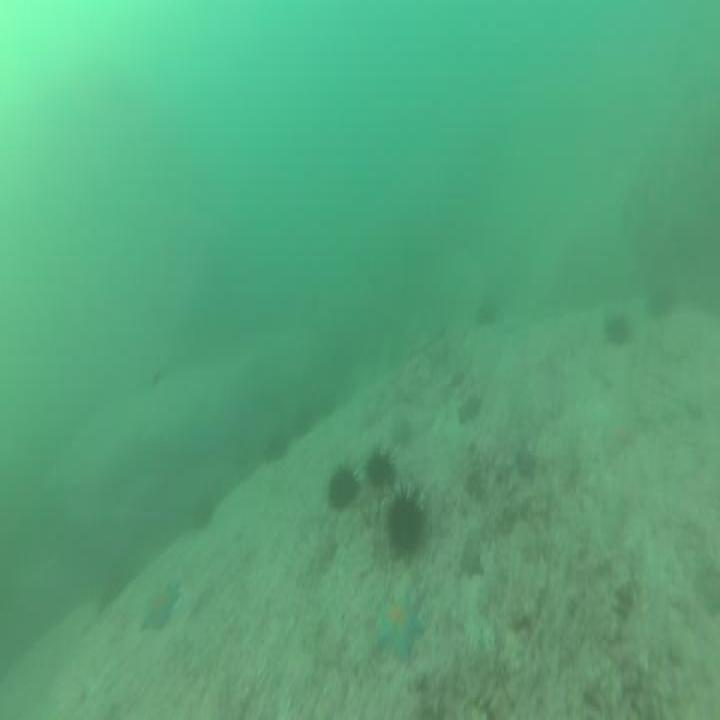echinus: (380, 473, 429, 562), (324, 455, 361, 519), (360, 439, 397, 496), (187, 493, 218, 535), (602, 311, 634, 350), (646, 284, 676, 320), (290, 407, 315, 439), (263, 434, 289, 464), (475, 300, 499, 329), (317, 391, 338, 420)
starfish: (369, 592, 427, 665), (141, 572, 184, 640), (513, 432, 540, 485), (455, 542, 486, 583), (457, 393, 483, 428)
